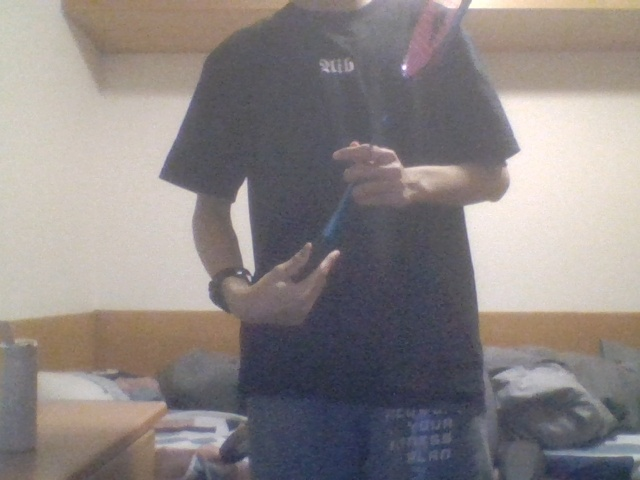human: (159, 1, 522, 480)
racket: (294, 1, 472, 282)
